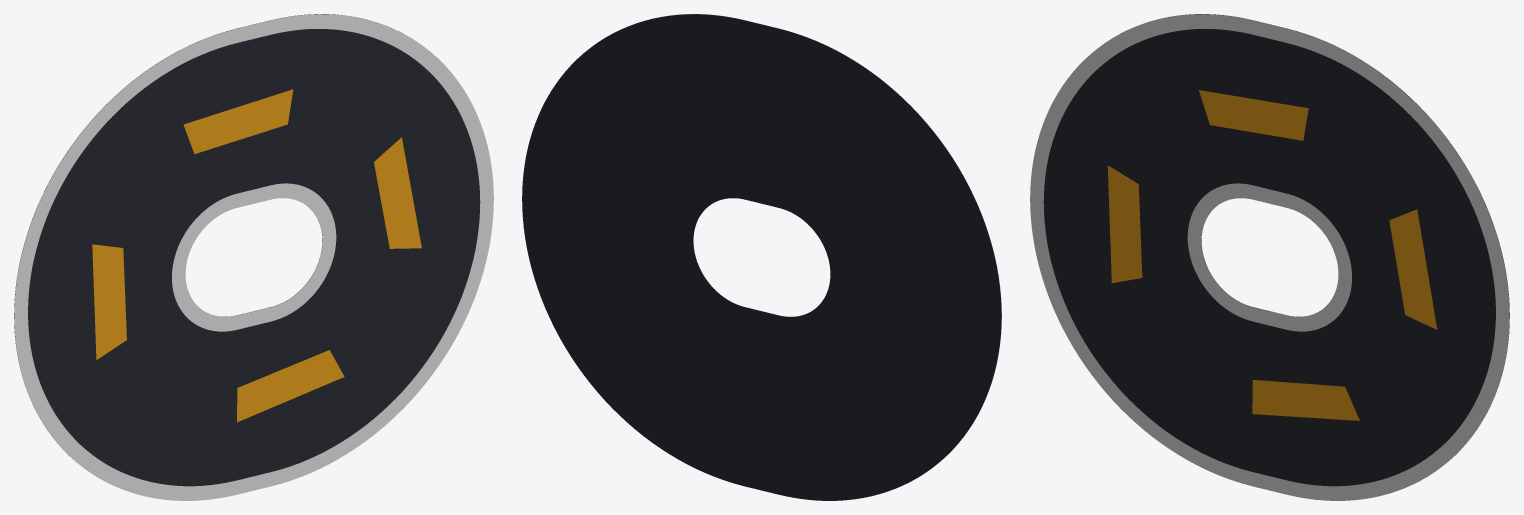
The model's file is track.obj.
3 renders of one model, left to right at view 1: azimuth 30°, elevation 25°; view 2: azimuth 150°, elevation 25°; view 3: azimuth 330°, elevation 25°, orthographic.
Bounding box in the file's own units: 1.4 × 1.3 × 0.002.
3 materials, 3 textured.
